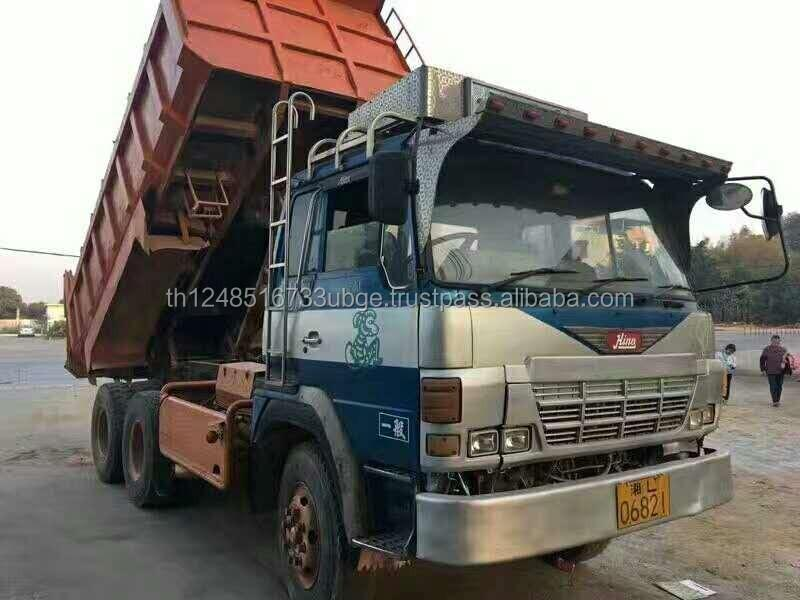Person: (760, 334, 790, 409), (719, 342, 737, 403)
Truck: (61, 0, 731, 598)
